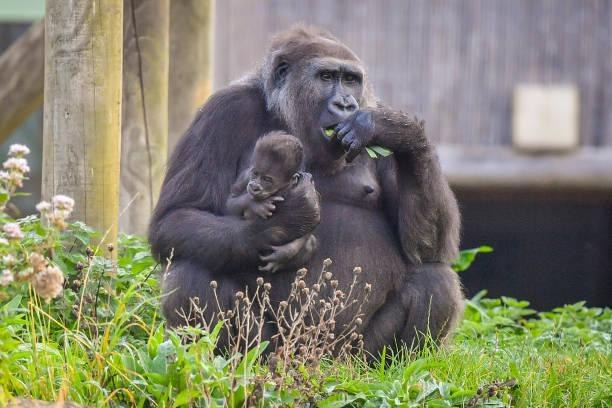gorille_Autres: (157, 17, 488, 378)
